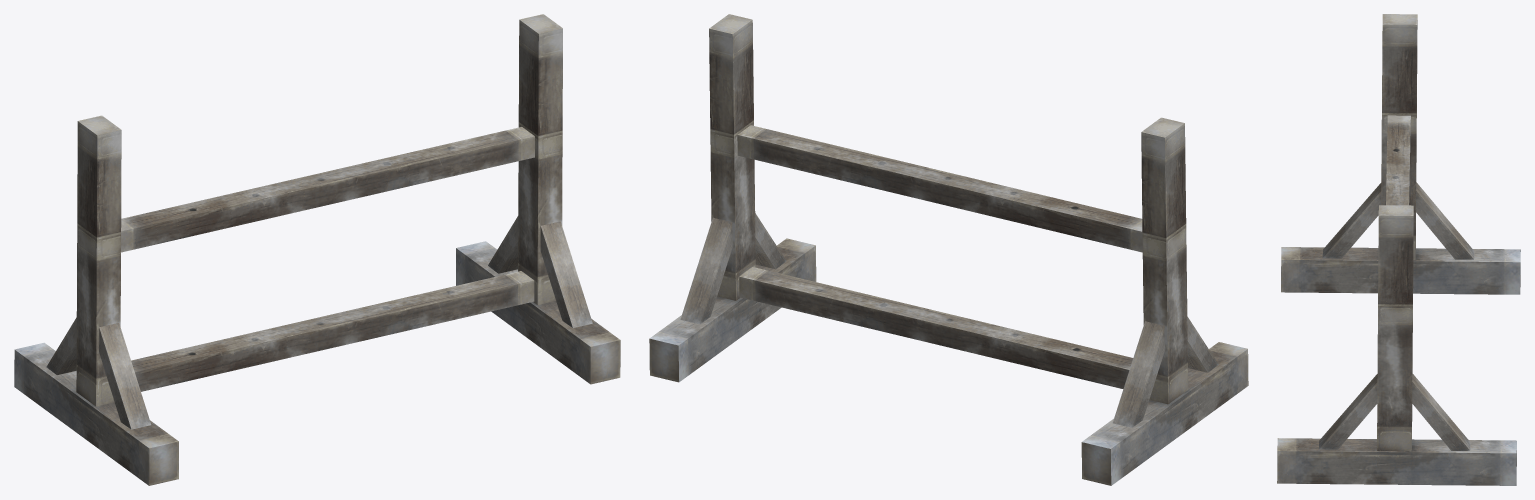
File: 2005_Item_bongqijiazi_1.FBX
3 renders of one model, left to right at view 1: azimuth 30°, elevation 25°; view 2: azimuth 150°, elevation 25°; view 3: azimuth 270°, elevation 25°, orthographic. The views are drawn at different scales.
Parts seen in each view (by area): view 1: 2005_Item_bongqijiazi_1; view 2: 2005_Item_bongqijiazi_1; view 3: 2005_Item_bongqijiazi_1.
Boxes of the visible parts, x1,y1,x2,y2 form: 2005_Item_bongqijiazi_1: [14, 14, 620, 485]; 2005_Item_bongqijiazi_1: [649, 14, 1248, 485]; 2005_Item_bongqijiazi_1: [1277, 14, 1520, 485].
Bounding box in the file's own units: 228 × 145 × 117.
